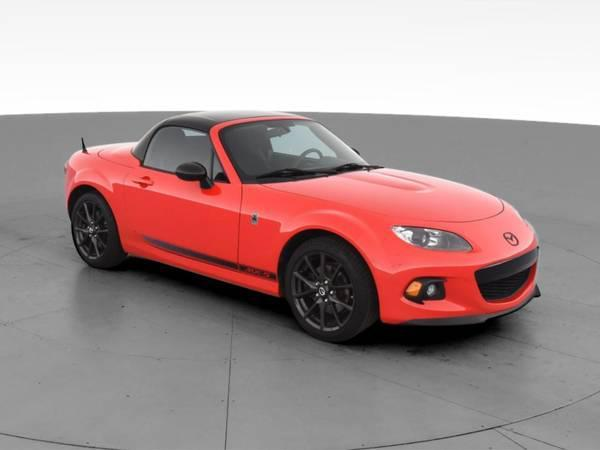Front_Bumper: (365, 202, 539, 325)
Front_Fender: (235, 187, 399, 298)
Front_Right_Door: (125, 165, 240, 283)
Front_Right_Window: (143, 125, 231, 185)
Front_Windshield: (222, 121, 372, 186)
Grille: (474, 248, 540, 314)
Hood: (267, 167, 503, 228)
Rear_Fender: (63, 150, 137, 255)
Right_Headlight: (394, 226, 476, 253)
Roof: (136, 113, 313, 187)
Wheel: (286, 233, 372, 333), (68, 194, 115, 263)
